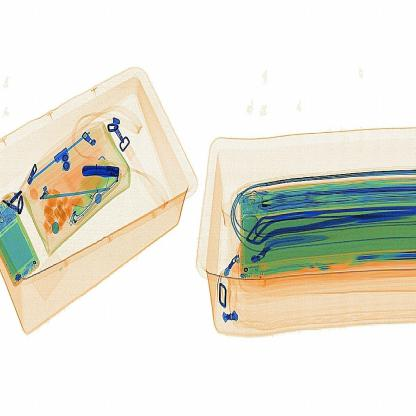knife: (79, 156, 131, 190)
